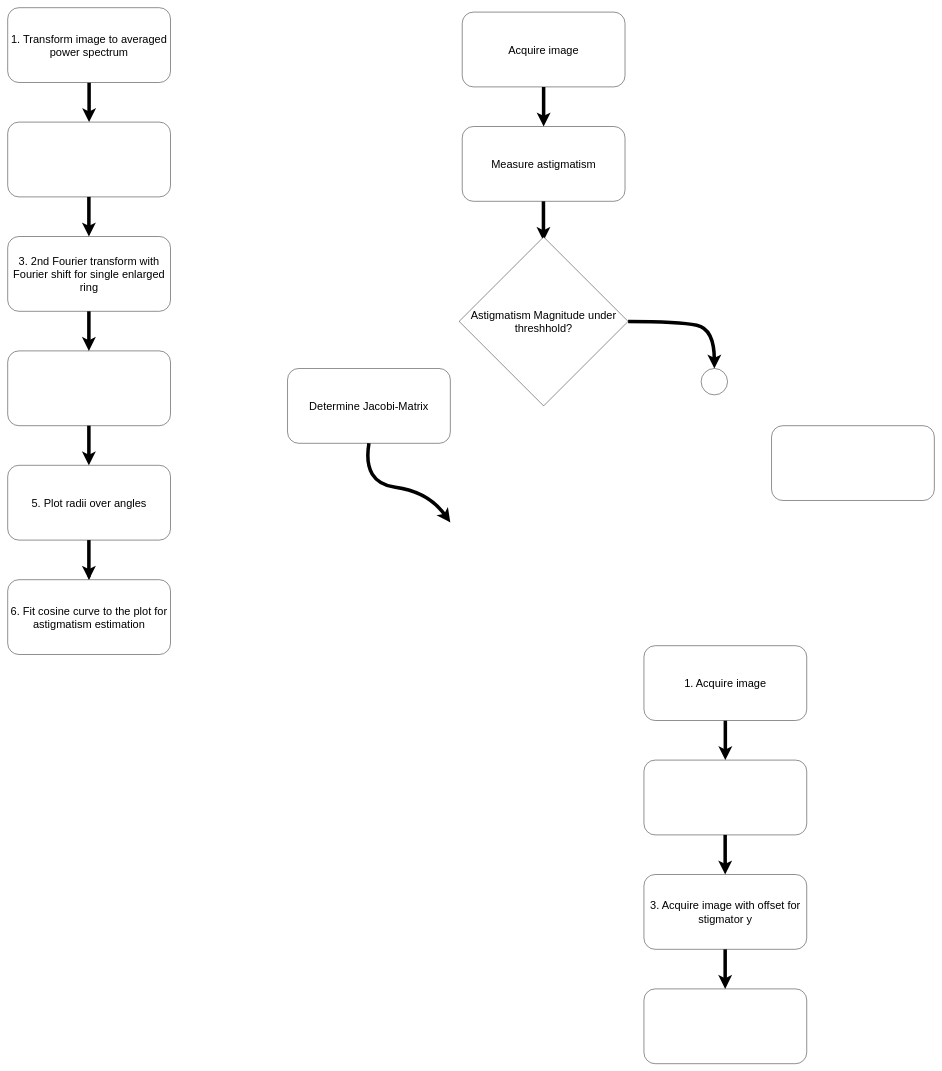
Some shapes in this 942 by 1071 pixel diagram are drawn without their labels. Here are the shapes that lost their labels. From the top down, the box of each, then its label:
(7, 122, 170, 197): 2. Rearrange image to s2-power-spectrum for equally spaced Thon-rings
(7, 350, 170, 426): 4. Applying annular mask to avoid artifacts
(771, 425, 934, 500): Calculate and apply correction step to stigmators
(644, 760, 807, 835): 2. Acquire image with offset for stigmator x
(644, 988, 807, 1064): 4. Calculate Jacobi-Matrix
